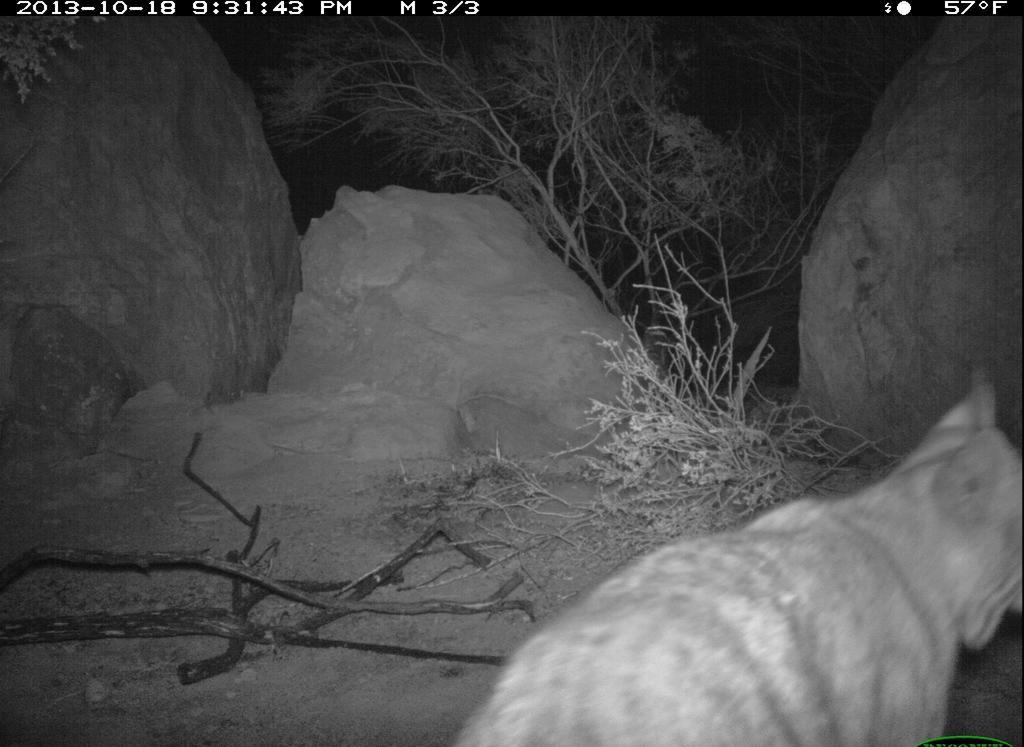bobcat: (449, 363, 1024, 747)
